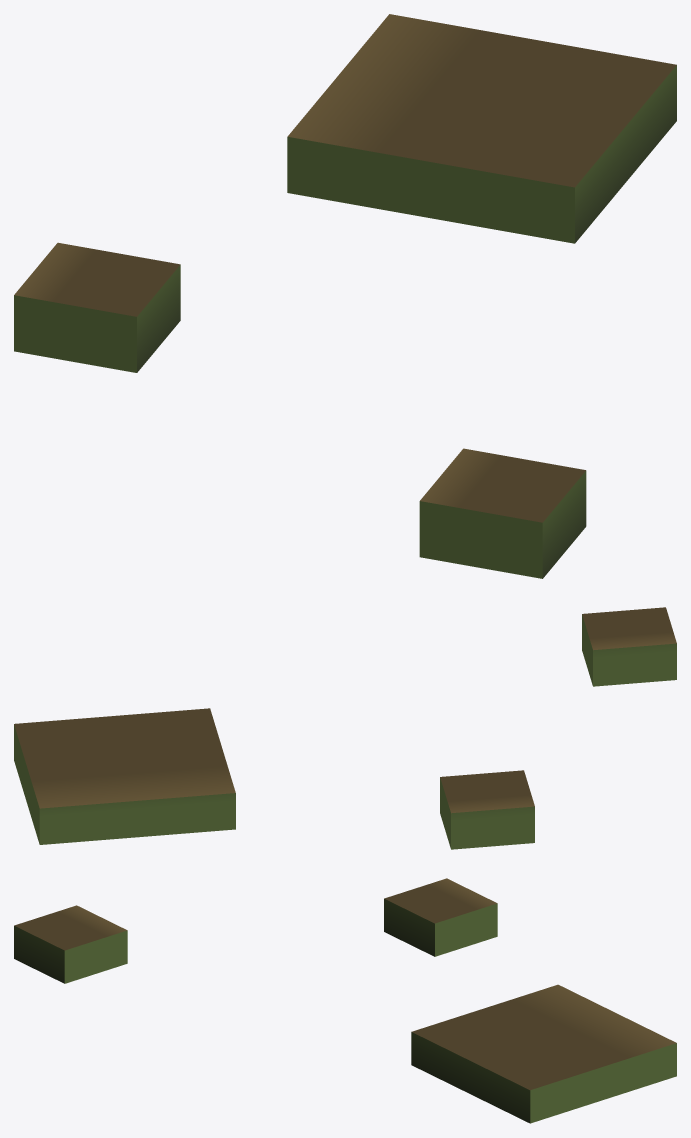
Rendered from SM_Env_Rubble_02.gltf.
3 views of the same model, one above another, from view 1: azimuth 30°, elevation 25°; view 2: azimuth 150°, elevation 25°; view 3: azimuth 270°, elevation 25° (orthographic). The views are drawn at different scales.
Parts seen in each view (by area): view 1: SM_Env_Rubble_02; view 2: SM_Env_Rubble_02; view 3: SM_Env_Rubble_02.
Boxes of the visible parts, <box> form: SM_Env_Rubble_02: <box>14,14,676,578</box>; SM_Env_Rubble_02: <box>14,607,676,849</box>; SM_Env_Rubble_02: <box>14,878,676,1123</box>.
Bounding box in the file's own units: 3.62 × 0.2654 × 4.79.
1 material, 1 textured.
